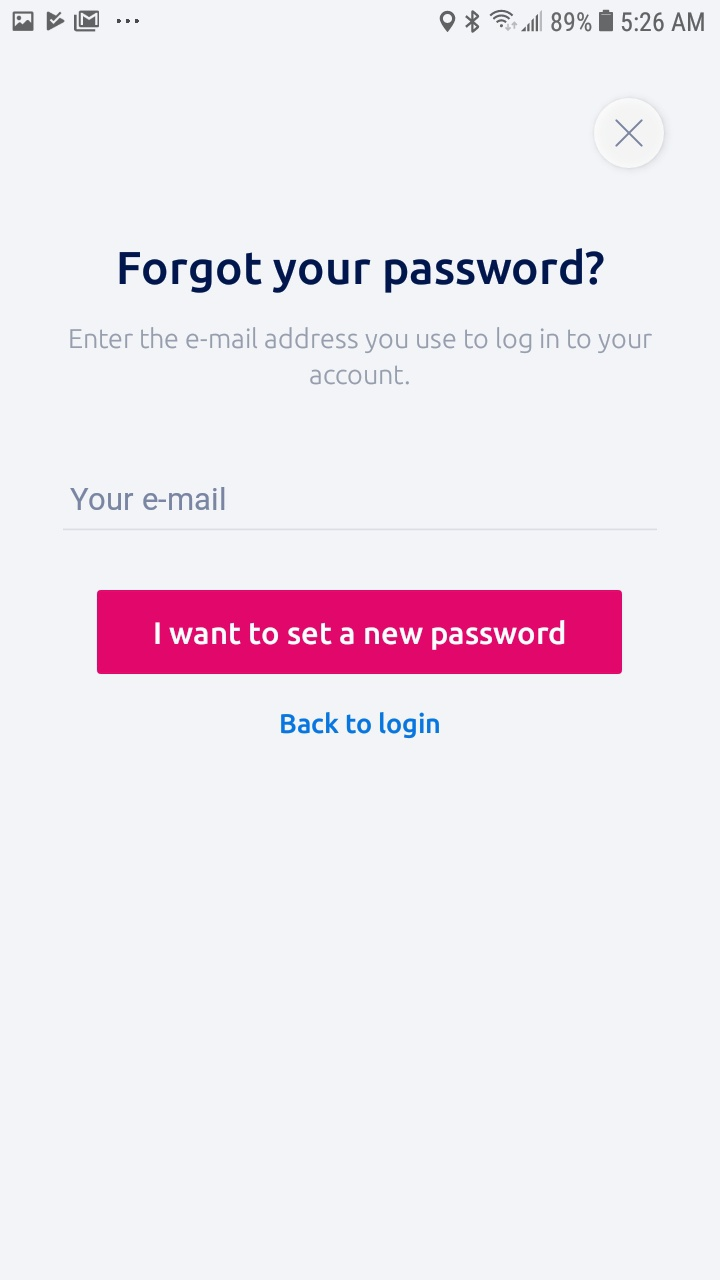EditText: (63, 487, 658, 532)
Icon: (593, 98, 665, 170)
Text: (70, 327, 653, 386), (119, 248, 605, 295), (281, 712, 440, 739), (71, 487, 226, 512)
TextButton: (97, 590, 623, 675)
UpperTaskBar: (1, 1, 720, 35)
